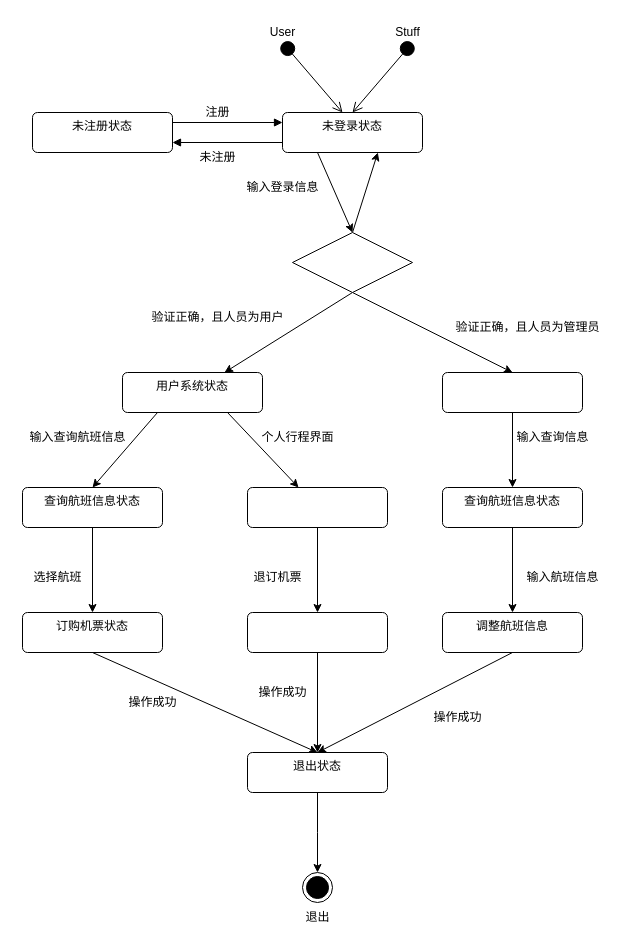
Some shapes in this 629 by 949 pixel diagram are drawn without their labels. The centre of each missing label's shape, as x and y in pixels:
查询个人机票状态: pixel 317 507
正确性验证: pixel 352 262
管理员系统状态: pixel 512 392
退订机票状态: pixel 317 632
